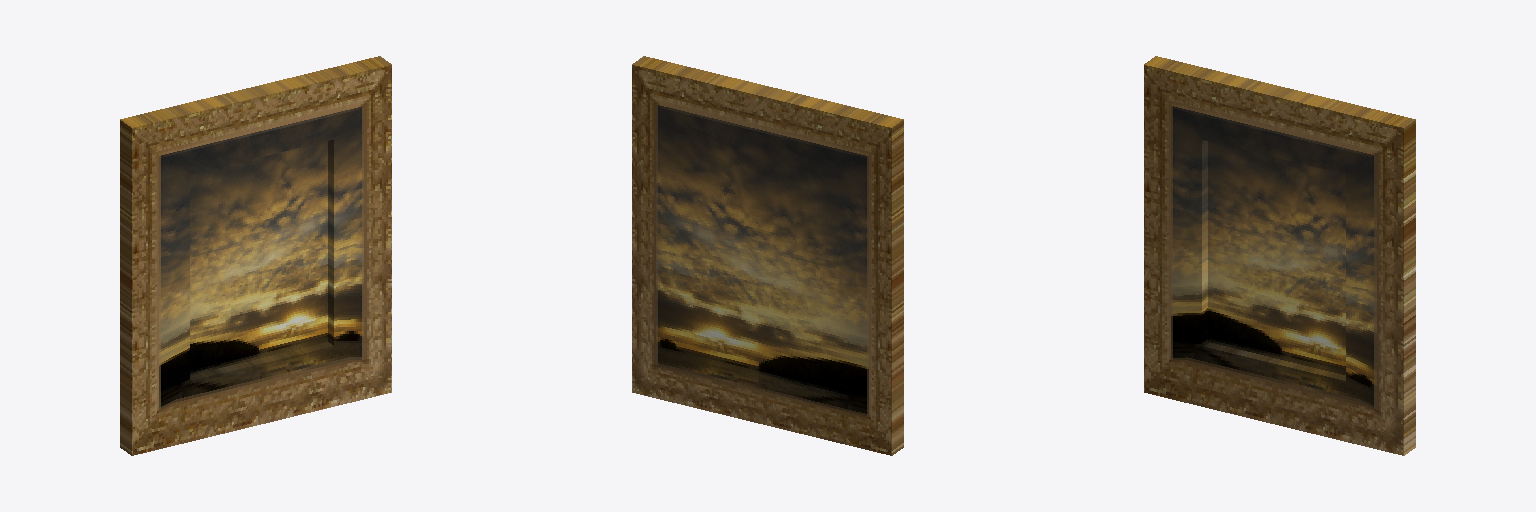
3 views of the same model, side by side, from view 1: azimuth 30°, elevation 25°; view 2: azimuth 150°, elevation 25°; view 3: azimuth 330°, elevation 25° (orthographic).
Visible parts, largest first — view 1: wallpicture5; view 2: wallpicture5; view 3: wallpicture5.
Boxes of the visible parts, <box> form: wallpicture5: <box>120,56,391,455</box>; wallpicture5: <box>632,56,903,455</box>; wallpicture5: <box>1144,56,1415,455</box>.
Bounding box in the file's own units: 0.656 × 0.7897 × 0.0521.
1 materials, 1 textured.